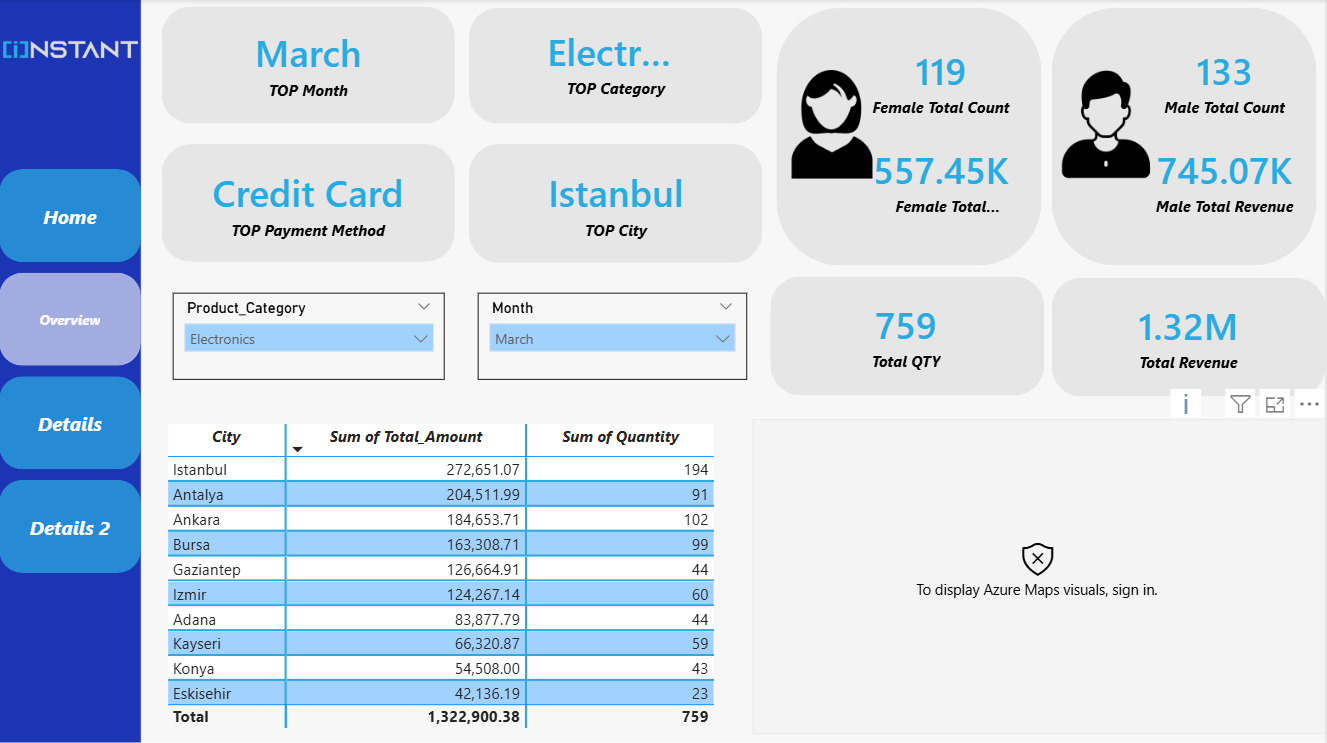

What the dashboard file says about the page in this screenshot:
{"tool":"powerbi","page":{"name":"Overview","canvas":[1280,720],"ordinal":1},"visuals":[{"type":"pageNavigator","box":[0,164.4,137.1,390],"z":0},{"type":"shape","box":[1015.4,8.8,255.8,249],"z":1000},{"type":"cardVisual","fields":{"Data":["Ecommerce.Male Total Count"]},"box":[1087.4,25.3,192.6,108],"z":2000},{"type":"cardVisual","fields":{"Data":["Ecommerce.Male Total Revenue"]},"box":[1087.4,120.6,192.6,108],"z":3000},{"type":"image","box":[1015.4,20.4,105,200.4],"z":4000},{"type":"shape","box":[749.9,9,255.8,249],"z":5000},{"type":"cardVisual","fields":{"Data":["Ecommerce.Female Total Count"]},"box":[813.1,25.6,192.6,108],"z":6000},{"type":"cardVisual","fields":{"Data":["Ecommerce.Female Total Revenue"]},"box":[813.1,120.9,192.6,108],"z":7000},{"type":"image","box":[751.2,20.7,105,200.4],"z":8000},{"type":"shape","box":[453.3,8.8,283,111.9],"z":9000},{"type":"shape","box":[453.3,140.1,283,114.8],"z":10000},{"type":"shape","box":[156.6,7.8,283,112.8],"z":11000},{"type":"shape","box":[156.6,140.1,283,113.8],"z":12000},{"type":"cardVisual","fields":{"Data":["Ecommerce.TOP Category"]},"box":[499,7.8,192.6,108],"z":13000},{"type":"cardVisual","fields":{"Data":["Ecommerce.TOP City"]},"box":[499,143,192.6,108],"z":14000},{"type":"cardVisual","fields":{"Data":["Ecommerce.TOP Payment Method"]},"box":[156.6,143,283,108],"z":15000},{"type":"cardVisual","fields":{"Data":["Ecommerce.TOP Month"]},"box":[202.3,8.8,192.6,108],"z":16000},{"type":"shape","box":[1015.4,268.4,264.6,114.8],"z":17000},{"type":"cardVisual","fields":{"Data":["Ecommerce.Total Revenue"]},"box":[1051.4,271.4,192.6,108],"z":18000},{"type":"shape","box":[744.1,267.8,264.6,114.8],"z":19000},{"type":"cardVisual","fields":{"Data":["Ecommerce.Total QTY"]},"box":[762.6,270.4,226.6,108],"z":20000},{"type":"tableEx","fields":{"Values":["Ecommerce.City","Sum(Ecommerce.Total_Amount)","Sum(Ecommerce.Quantity)"]},"box":[156.6,405.6,548.6,304.4],"z":22000},{"type":"slicer","fields":{"Values":["Ecommerce.Product_Category"]},"box":[168.3,284,262.6,83.6],"z":23000},{"type":"slicer","fields":{"Values":["Ecommerce.Date.Variation.Date Hierarchy.Month"]},"box":[462,284,259.7,83.6],"z":24000},{"type":"azureMap","fields":{"Category":["Ecommerce.City"],"Size":["Sum(Ecommerce.Total_Amount)"]},"box":[727.1,405.2,552.4,304.1],"z":24001}]}

Visuals, with their boxes in screenshot pixels (x1, y1, x2, y2), scaled from the page's 1280x720 canvas onto the 1327x743 screenshot:
pageNavigator: (0, 170, 142, 572)
shape: (1053, 9, 1318, 266)
cardVisual - Ecommerce.Male Total Count: (1127, 26, 1326, 138)
cardVisual - Ecommerce.Male Total Revenue: (1127, 124, 1326, 236)
image: (1053, 21, 1162, 228)
shape: (777, 9, 1043, 266)
cardVisual - Ecommerce.Female Total Count: (843, 26, 1043, 138)
cardVisual - Ecommerce.Female Total Revenue: (843, 125, 1043, 236)
image: (779, 21, 888, 228)
shape: (470, 9, 763, 125)
shape: (470, 145, 763, 263)
shape: (162, 8, 456, 124)
shape: (162, 145, 456, 262)
cardVisual - Ecommerce.TOP Category: (517, 8, 717, 119)
cardVisual - Ecommerce.TOP City: (517, 148, 717, 259)
cardVisual - Ecommerce.TOP Payment Method: (162, 148, 456, 259)
cardVisual - Ecommerce.TOP Month: (210, 9, 409, 121)
shape: (1053, 277, 1326, 395)
cardVisual - Ecommerce.Total Revenue: (1090, 280, 1290, 392)
shape: (771, 276, 1046, 395)
cardVisual - Ecommerce.Total QTY: (791, 279, 1026, 390)
tableEx - Ecommerce.City x Sum(Ecommerce.Total_Amount): (162, 419, 731, 733)
slicer - Ecommerce.Product_Category: (174, 293, 447, 379)
slicer - Ecommerce.Date.Variation.Date Hierarchy.Month: (479, 293, 748, 379)
azureMap - Ecommerce.City x Sum(Ecommerce.Total_Amount): (754, 418, 1326, 732)
